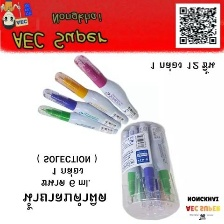correction_fluid: (71, 53, 139, 122), (52, 70, 131, 126), (41, 86, 122, 130), (36, 102, 119, 135), (148, 122, 175, 204), (135, 121, 158, 202), (122, 124, 139, 205)
